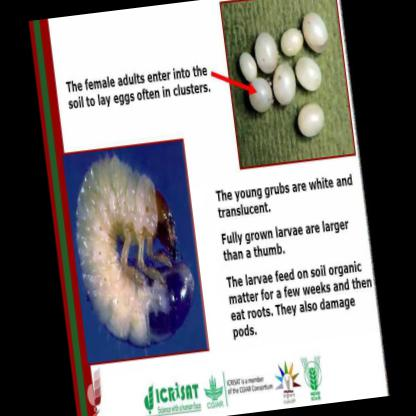root grubs: (76, 155, 196, 347)
